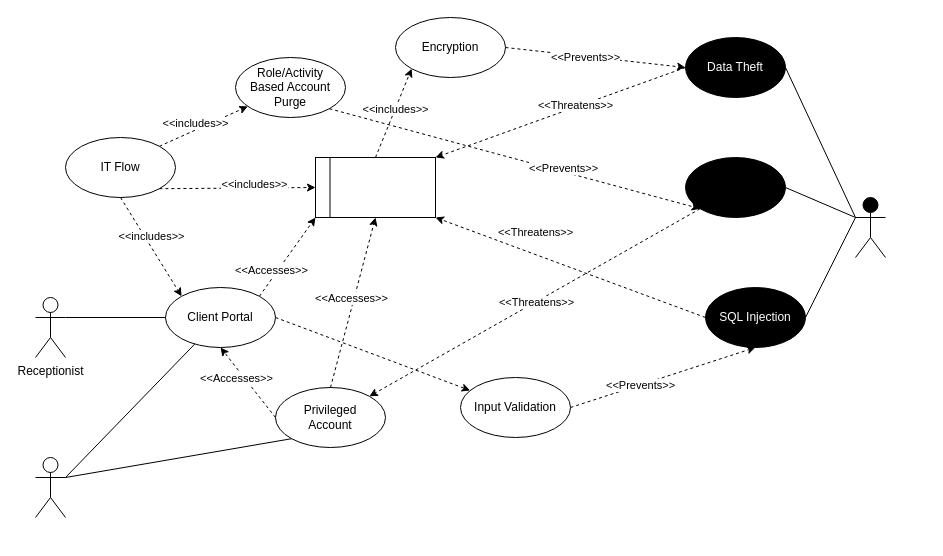
This 943x556 diagram has some shape labels left out. The shapes that lost their labels are listed below. From the top down, each one's centre as x and y in pixels, then its label:
At (375,187): "Database".
At (735,187): "Compromise Account".
At (870,227): "Ransomware Hacker".
At (50,487): "Analyst".
